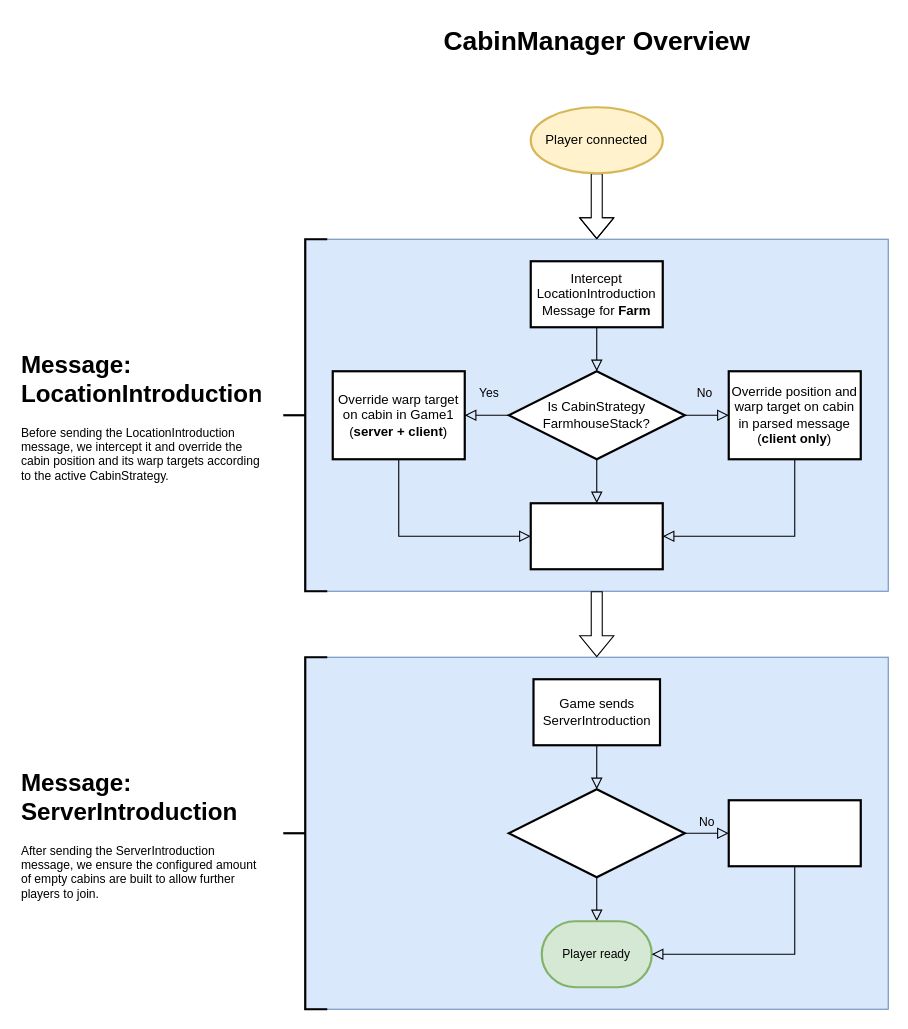
Image size: 908x1029. Some labels were removed from this diagram. Each missing label, with the centre of its shape:
Create cabin in hidden location: the point at 794,833
Has enough empty cabins?: the point at 596,833
Override outgoing LocationIntroduction message: the point at 596,536
